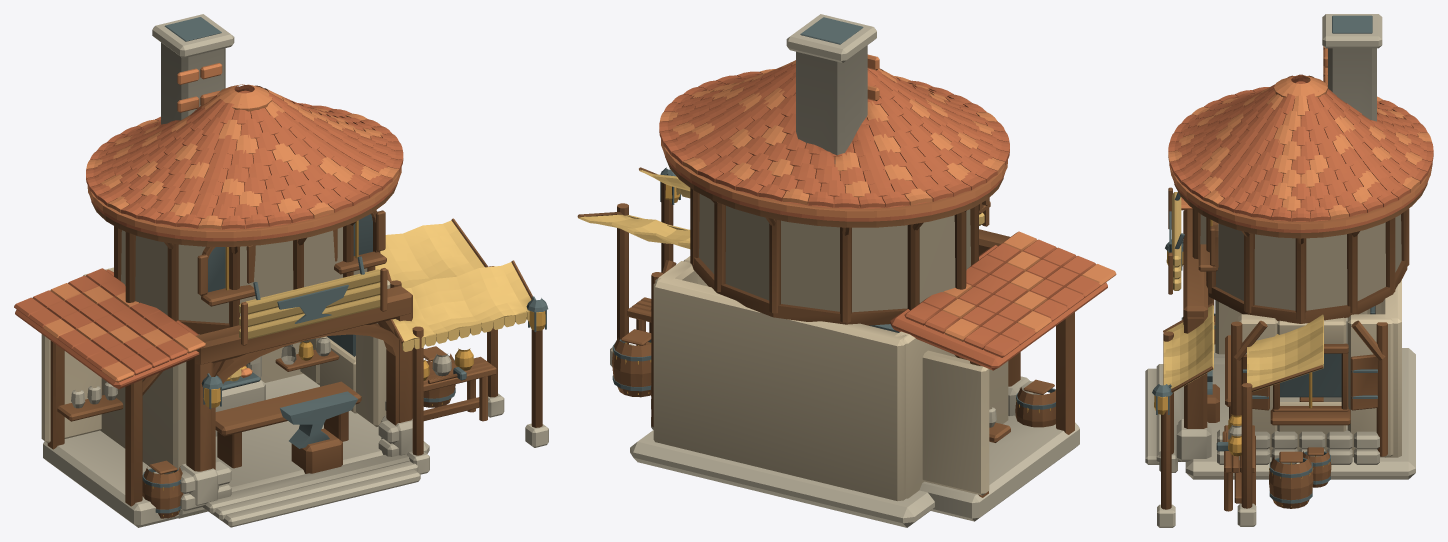
The model's file is workshop.glb.
3 renders of one model, left to right at view 1: azimuth 30°, elevation 25°; view 2: azimuth 150°, elevation 25°; view 3: azimuth 270°, elevation 25°, orthographic. The views are drawn at different scales.
Visible parts, largest first — view 1: HERO_batch_timber, HERO_batch_tile, HERO_batch_stone.001, HERO_batch_plaster, HERO_batch_canvas, HERO_batch_tileLight, HERO_batch_iron, HERO_batch_brass; view 2: HERO_batch_plaster, HERO_batch_tile, HERO_batch_stone.001, HERO_batch_timber, HERO_batch_tileLight, HERO_batch_canvas, HERO_batch_iron; view 3: HERO_batch_timber, HERO_batch_tile, HERO_batch_plaster, HERO_batch_stone.001, HERO_batch_tileLight, HERO_batch_canvas, HERO_batch_iron, HERO_batch_brass.
Boxes of the visible parts, box(x1,y1,x2,y2) form: HERO_batch_timber: box(47, 183, 542, 518); HERO_batch_tile: box(14, 85, 403, 389); HERO_batch_stone.001: box(43, 14, 548, 527); HERO_batch_plaster: box(41, 227, 390, 474); HERO_batch_canvas: box(229, 220, 531, 381); HERO_batch_tileLight: box(43, 63, 401, 382); HERO_batch_iron: box(142, 17, 548, 513); HERO_batch_brass: box(145, 220, 545, 516); HERO_batch_plaster: box(653, 194, 1008, 501); HERO_batch_tile: box(659, 63, 1107, 370); HERO_batch_stone.001: box(610, 14, 1079, 527); HERO_batch_timber: box(577, 157, 1074, 497); HERO_batch_tileLight: box(660, 54, 1116, 341); HERO_batch_canvas: box(578, 169, 984, 248); HERO_batch_iron: box(612, 17, 1055, 409); HERO_batch_timber: box(1161, 182, 1427, 511); HERO_batch_tile: box(1168, 74, 1433, 232); HERO_batch_plaster: box(1200, 214, 1401, 457); HERO_batch_stone.001: box(1145, 14, 1415, 527); HERO_batch_tileLight: box(1168, 46, 1432, 229); HERO_batch_canvas: box(1163, 192, 1323, 392); HERO_batch_iron: box(1152, 15, 1377, 503); HERO_batch_brass: box(1154, 219, 1331, 506).
Bounding box in the file's own units: 9.52 × 8.72 × 5.88.
